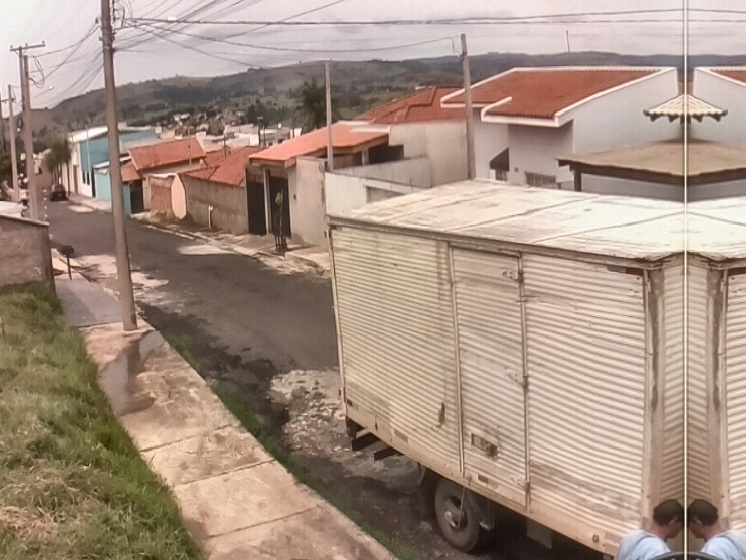person: (606, 498, 685, 560), (687, 497, 746, 560)
